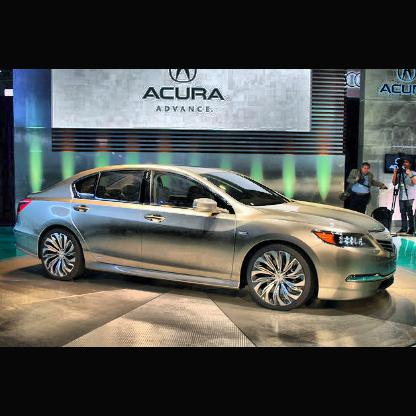Acura RL Sedan 2012: (13, 163, 400, 312)
